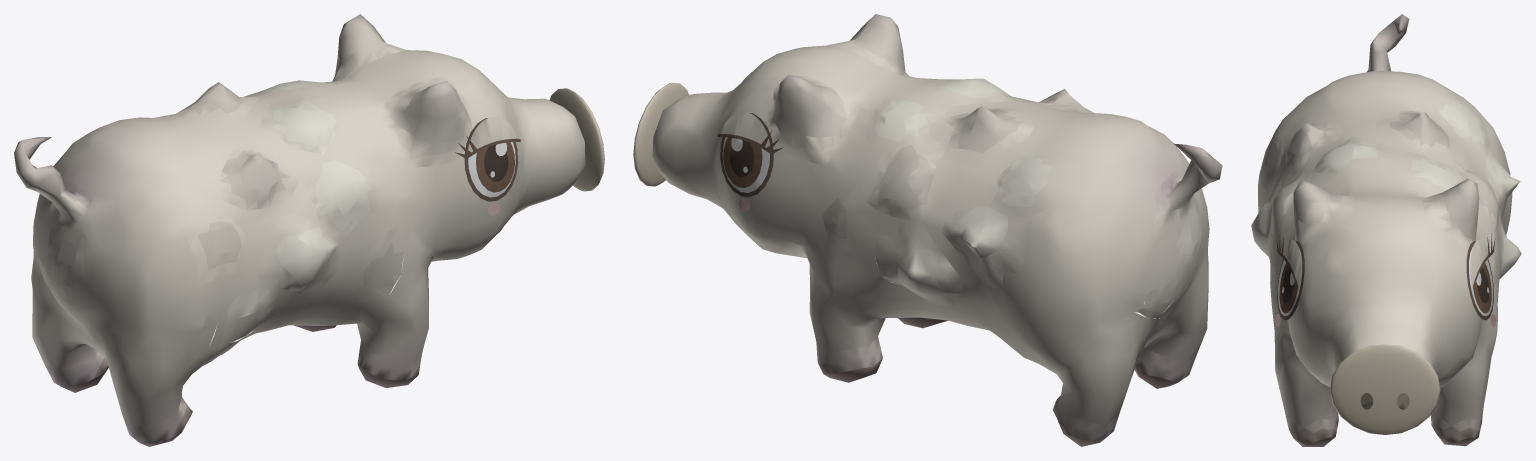
File: woolly_pig.glb
3 views of the same model, side by side, from view 1: azimuth 30°, elevation 25°; view 2: azimuth 150°, elevation 25°; view 3: azimuth 270°, elevation 25° (orthographic). The views are drawn at different scales.
Parts seen in each view (by area): view 1: woolly_pig; view 2: woolly_pig; view 3: woolly_pig.
Boxes of the visible parts, x1,y1,x2,y2 form: woolly_pig: (14,14,604,446); woolly_pig: (633,14,1222,446); woolly_pig: (1251,14,1521,446).
Size of the model in its own units: 0.8279 by 0.4217 by 0.3595.
